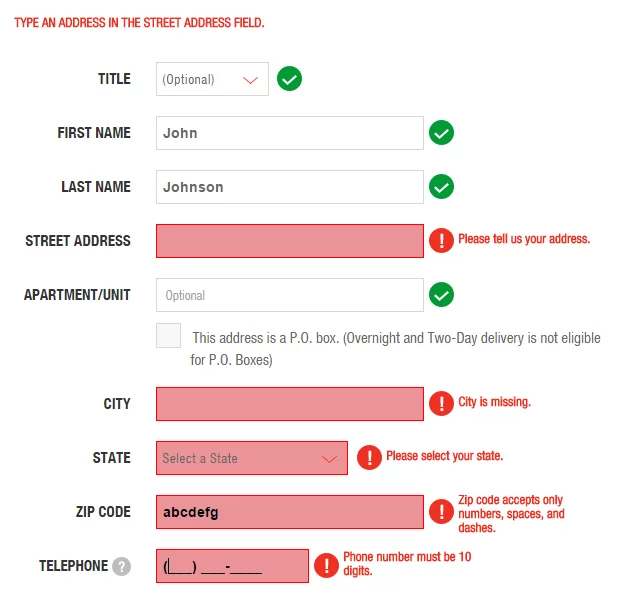error_field: (155, 494, 426, 531), (154, 386, 425, 422), (156, 223, 424, 259), (154, 439, 350, 476), (156, 547, 310, 584)
error_message: (457, 493, 565, 536), (13, 13, 267, 30), (343, 550, 474, 579), (457, 230, 589, 246), (384, 449, 504, 462), (458, 394, 533, 409)
